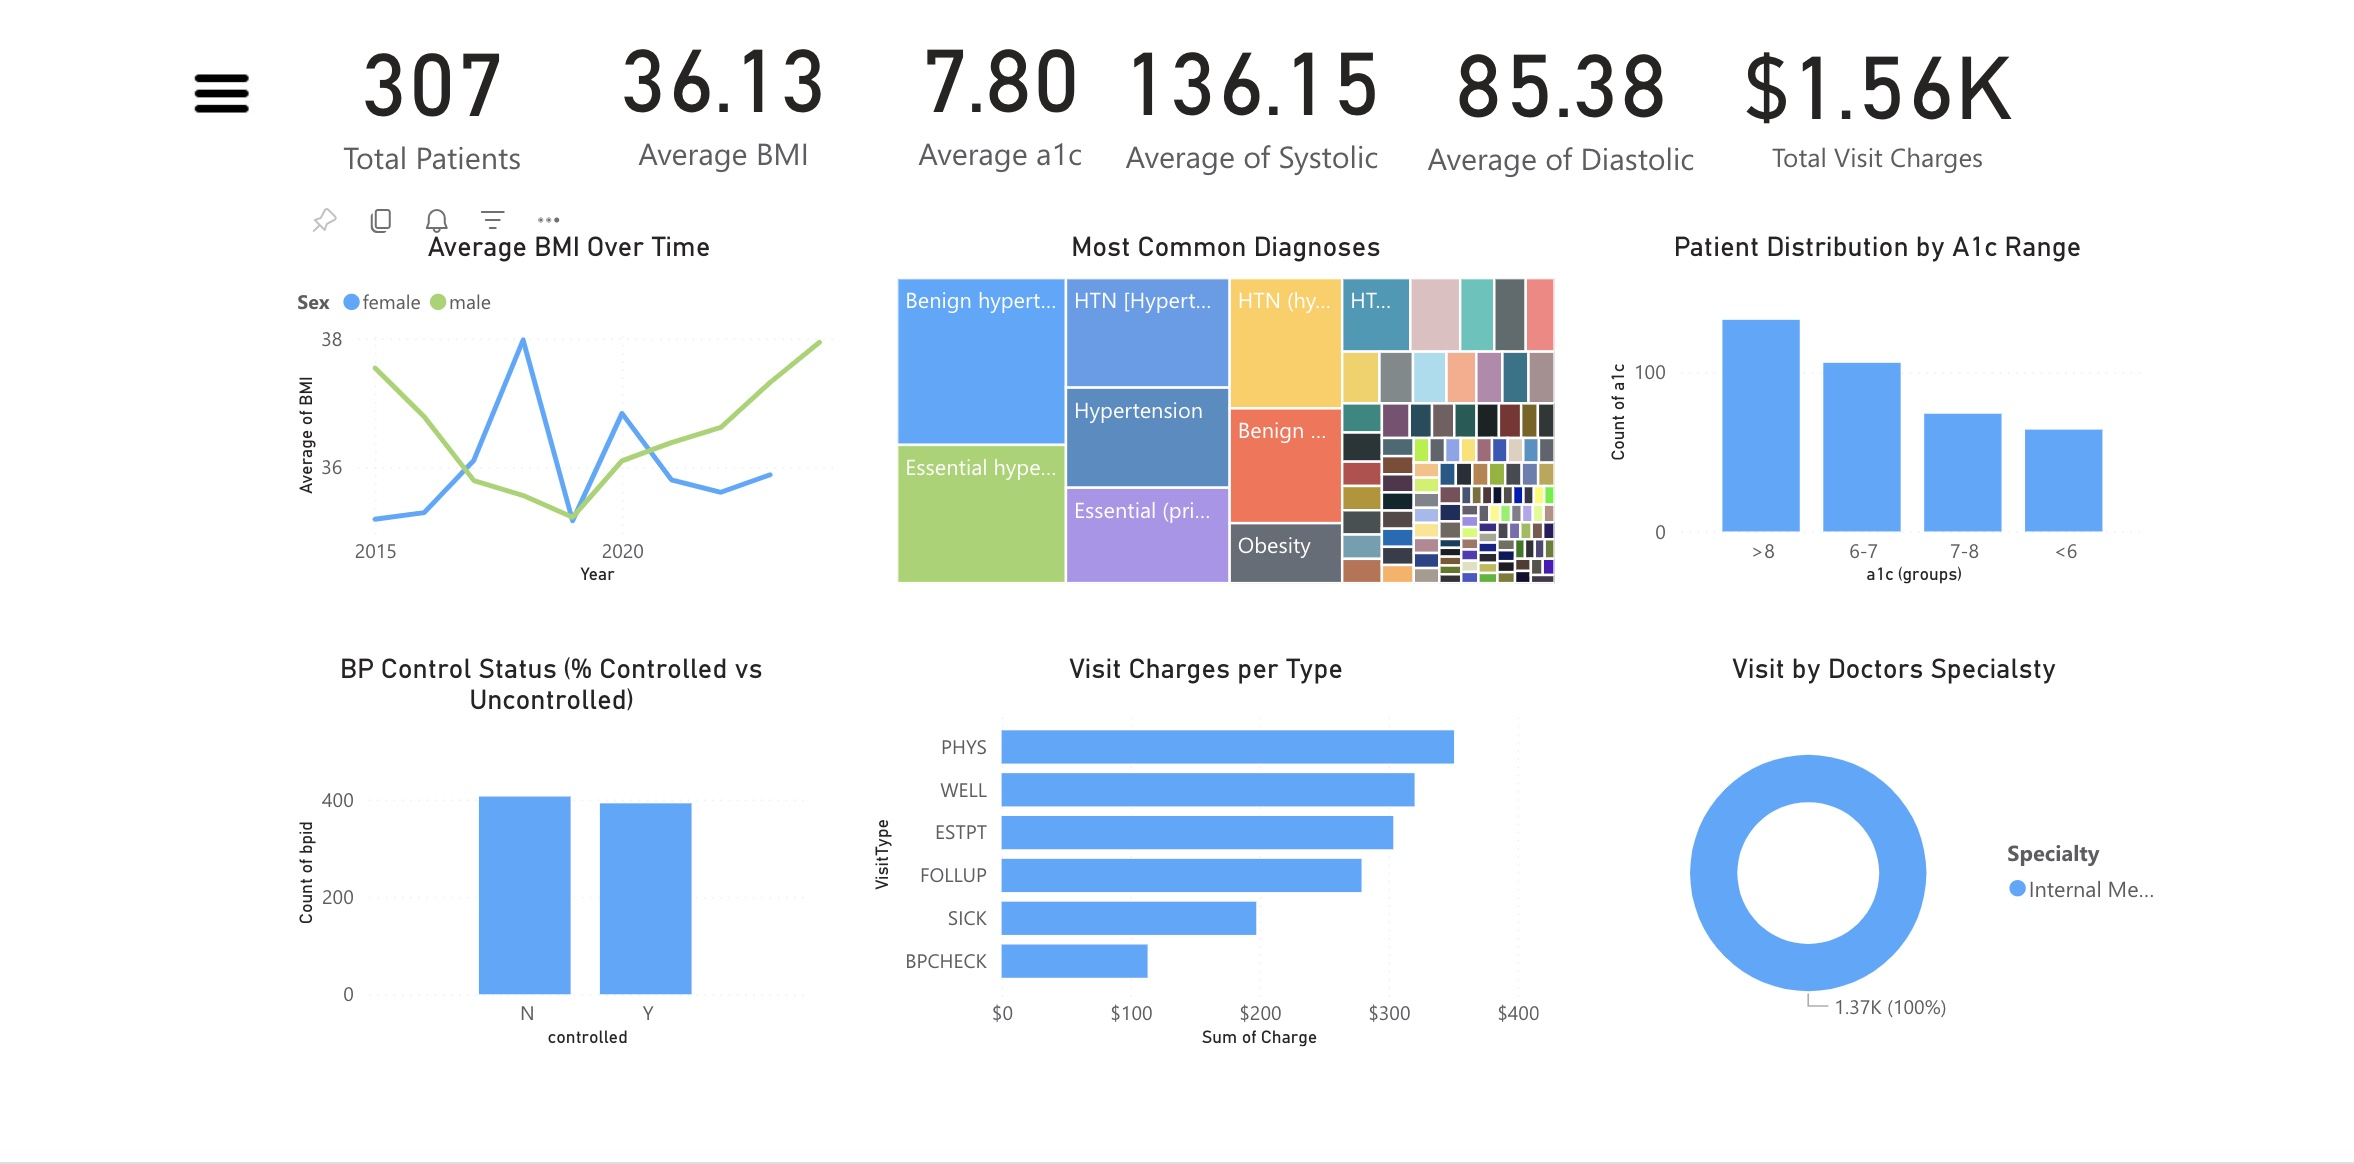

The page's visual inventory and layout, read from the dashboard file:
{"tool":"powerbi","page":{"name":"Page 1","canvas":[1280,720],"ordinal":0},"visuals":[{"type":"group","id":"g1","title":"Group 3","box":[86.2,0,1077.5,133.8],"z":0},{"type":"group","id":"g2","title":"Group 1","box":[86.2,0,1078.1,129.7],"z":0,"group":"g1"},{"type":"card","title":"Average A1c","fields":{"Values":["Avg(bp_clean.systolic)"]},"box":[588,0.8,175,128.3],"z":0,"group":"g3"},{"type":"card","title":"Total Patients","fields":{"Values":["CountNonNull(Patients.PatientID)"]},"box":[86.2,3.2,175.3,123.7],"z":0,"group":"g2"},{"type":"card","title":"Average BMI","fields":{"Values":["Avg(BMI.BMI)"]},"box":[266.4,0,172,126.9],"z":1000,"group":"g2"},{"type":"group","id":"g3","title":"Group 2","box":[588,0.1,375.6,133.3],"z":1000,"group":"g1"},{"type":"card","title":"Average A1c","fields":{"Values":["Avg(bp_clean.diastolic)"]},"box":[765.2,0.1,198.3,133.3],"z":1000,"group":"g3"},{"type":"actionButton","title":"X Button","box":[120.2,47.1,41.8,38.9],"z":1000,"group":"g4"},{"type":"lineChart","title":"Average BMI Over Time","fields":{"Category":["Encounters.Date.Variation.Date Hierarchy.Year","Encounters.Date.Variation.Date Hierarchy.Quarter","Encounters.Date.Variation.Date Hierarchy.Month","Encounters.Date.Variation.Date Hierarchy.Day"],"Y":["Avg(BMI.BMI)"],"Series":["Patients.Sex"]},"box":[86.2,151.6,342.8,219],"z":1000},{"type":"card","title":"Average A1c","fields":{"Values":["Avg(A1c.a1c)"]},"box":[428.6,0,185.1,126.9],"z":2000,"group":"g2"},{"type":"shape","box":[0,33.1,217.5,417.7],"z":2000,"group":"g4"},{"type":"columnChart","title":"BP Control Status (% Controlled vs Uncontrolled)","fields":{"Category":["bp_clean.controlled"],"Y":["CountNonNull(bp_clean.bpid)"]},"box":[86.2,410,321.2,243.8],"z":2000},{"type":"card","title":"Total Visit Charges","fields":{"Values":["Sum(VisitCost.Charge)"]},"box":[953,2.7,211.4,126.9],"z":3000,"group":"g2"},{"type":"clusteredColumnChart","title":"Patient Distribution by A1c Range","fields":{"Category":["A1c.a1c (groups)"],"Y":["CountNonNull(A1c.a1c)"]},"box":[888.8,151.7,338.8,218.8],"z":3000},{"type":"slicer","title":"Doctors Name","fields":{"Values":["Encounters.Doctors Name"]},"box":[5.7,285.1,190.1,89.3],"z":3000,"group":"g4"},{"type":"slicer","fields":{"Values":["Encounters.Facilities Name"]},"box":[5.7,374.4,191.6,87.9],"z":4000,"group":"g4"},{"type":"donutChart","title":"Visit by Doctors Specialsty","fields":{"Category":["Doctors.Specialty"],"Y":["CountNonNull(Encounters.EncounterID)"]},"box":[888.8,410,358.8,243.8],"z":4000},{"type":"treemap","title":"Most Common Diagnoses","fields":{"Values":["CountNonNull(Diagnoses.DiagnosisID)"],"Group":["Diagnoses.Description"]},"box":[452.5,151.7,412.5,218.8],"z":5000},{"type":"slicer","title":"Gender","fields":{"Values":["Patients.Sex"]},"box":[5.8,192.8,121,89.3],"z":5000,"group":"g4"},{"type":"slicer","title":"Date","fields":{"Values":["Encounters.Date"]},"box":[5.8,115,190.1,60.5],"z":6000,"group":"g4"},{"type":"barChart","title":"Visit Charges per Type","fields":{"Category":["VisitCost.VisitType"],"Y":["Sum(VisitCost.Charge)"]},"box":[438.8,410,417.5,243.8],"z":6000},{"type":"actionButton","title":"close button","box":[177.8,33.2,37.4,60.5],"z":7000,"group":"g4"},{"type":"image","box":[21.2,37.5,48.8,56.2],"z":7000},{"type":"group","id":"g4","title":"Slicer Pane","box":[0,33.1,217.5,429.2],"z":8000}]}

Visuals, with their boxes on the page's 1280x720 design canvas (x1, y1, x2, y2). These are canvas units, not pixel positions in the 2354x1164 screenshot, which may show the page scaled, cropped or inside an application window:
"Group 3" group: rect(86, 0, 1164, 134)
"Group 1" group: rect(86, 0, 1164, 130)
"Average A1c" card: rect(588, 1, 763, 129)
"Total Patients" card: rect(86, 3, 262, 127)
"Average BMI" card: rect(266, 0, 438, 127)
"Group 2" group: rect(588, 0, 964, 133)
"Average A1c" card: rect(765, 0, 964, 133)
"X Button" actionButton: rect(120, 47, 162, 86)
"Average BMI Over Time" lineChart: rect(86, 152, 429, 371)
"Average A1c" card: rect(429, 0, 614, 127)
shape: rect(0, 33, 218, 451)
"BP Control Status (% Controlled vs Uncontrolled)" columnChart: rect(86, 410, 407, 654)
"Total Visit Charges" card: rect(953, 3, 1164, 130)
"Patient Distribution by A1c Range" clusteredColumnChart: rect(889, 152, 1228, 370)
"Doctors Name" slicer: rect(6, 285, 196, 374)
slicer - Encounters.Facilities Name: rect(6, 374, 197, 462)
"Visit by Doctors Specialsty" donutChart: rect(889, 410, 1248, 654)
"Most Common Diagnoses" treemap: rect(452, 152, 865, 370)
"Gender" slicer: rect(6, 193, 127, 282)
"Date" slicer: rect(6, 115, 196, 176)
"Visit Charges per Type" barChart: rect(439, 410, 856, 654)
"close button" actionButton: rect(178, 33, 215, 94)
image: rect(21, 38, 70, 94)
"Slicer Pane" group: rect(0, 33, 218, 462)
